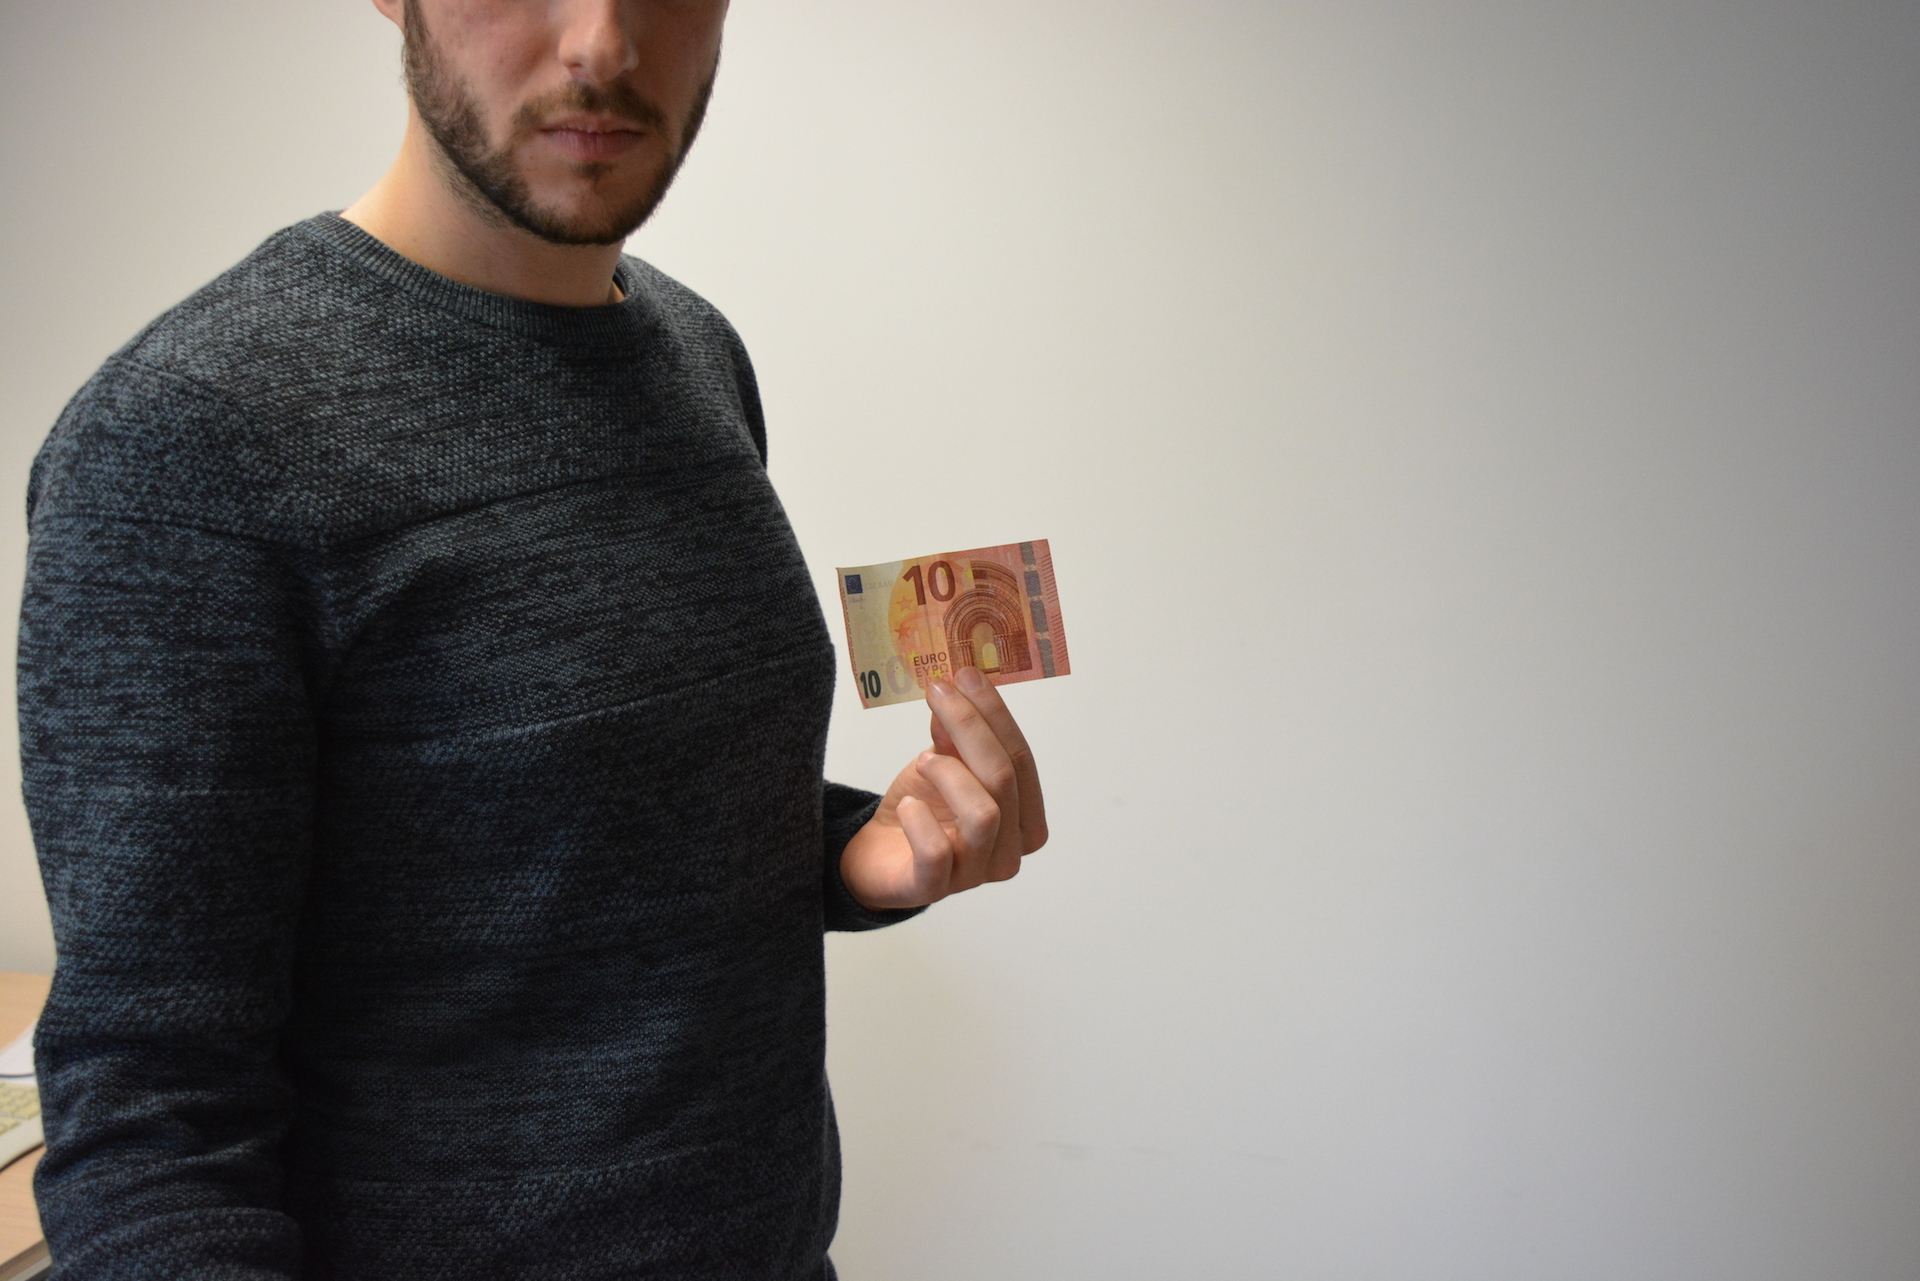billete: (835, 538, 1072, 711)
